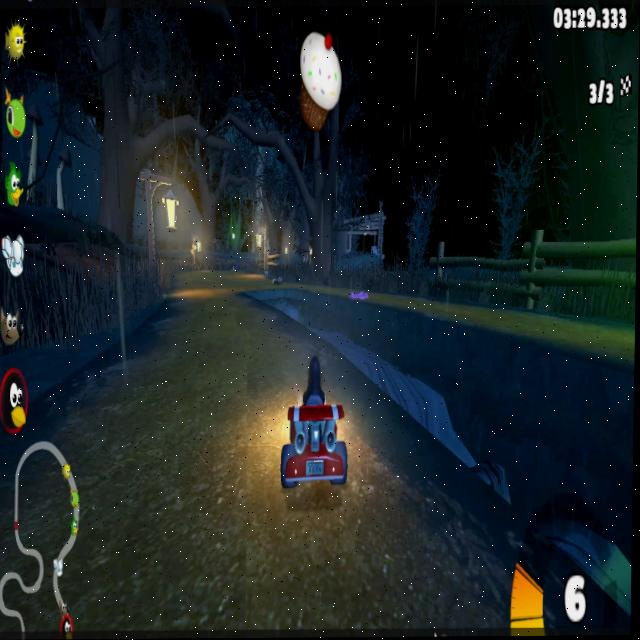obstacle: (348, 285, 374, 303)
player_kart: (273, 362, 353, 504)
track: (115, 342, 275, 635), (274, 505, 501, 617), (21, 445, 117, 632), (354, 404, 436, 511), (166, 292, 277, 354), (70, 354, 118, 446), (176, 256, 272, 289)
